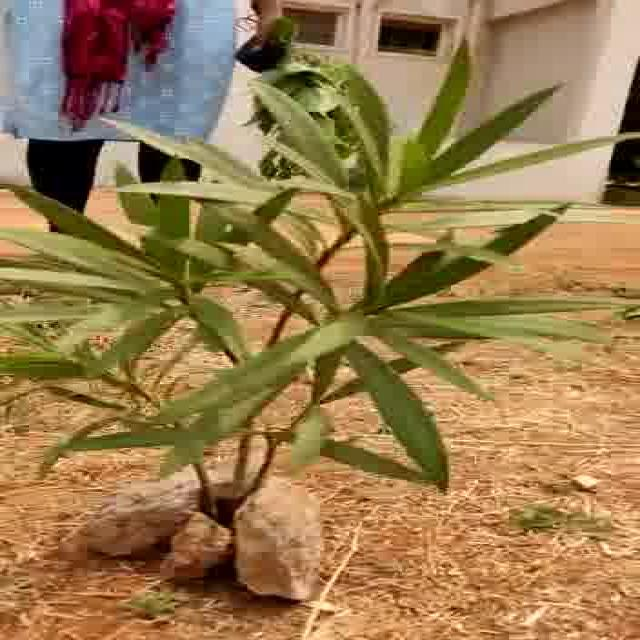Oleander: (113, 67, 621, 473)
